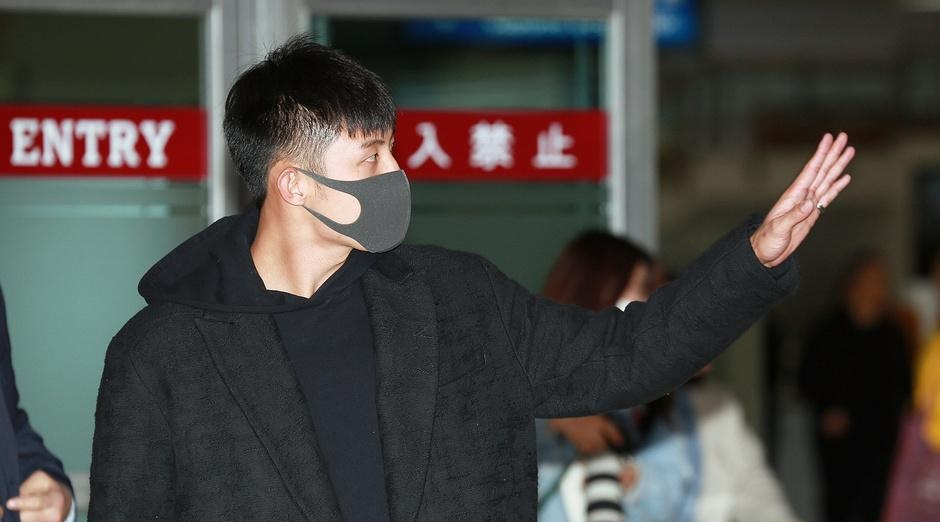face_mask: (312, 107, 413, 252)
